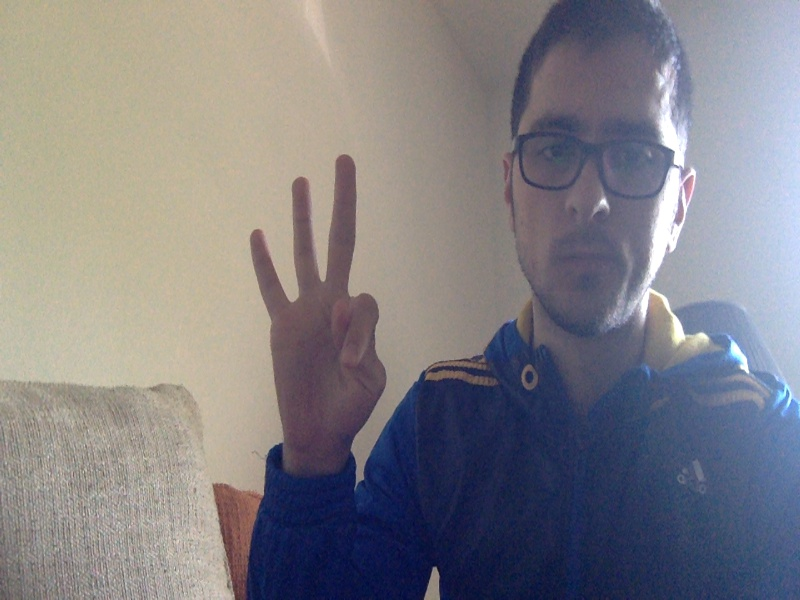3-hand: (249, 153, 382, 441)
